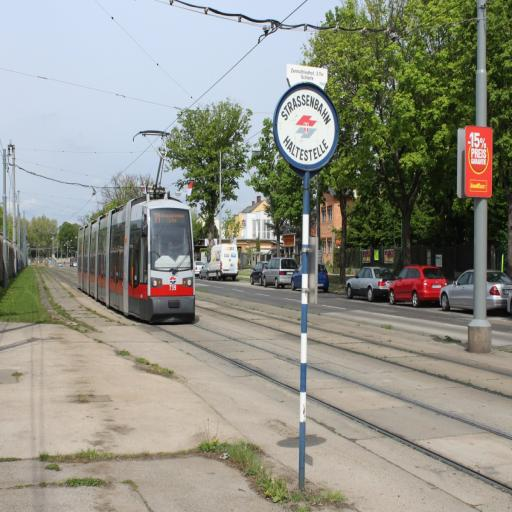ULF: (77, 188, 196, 323)
